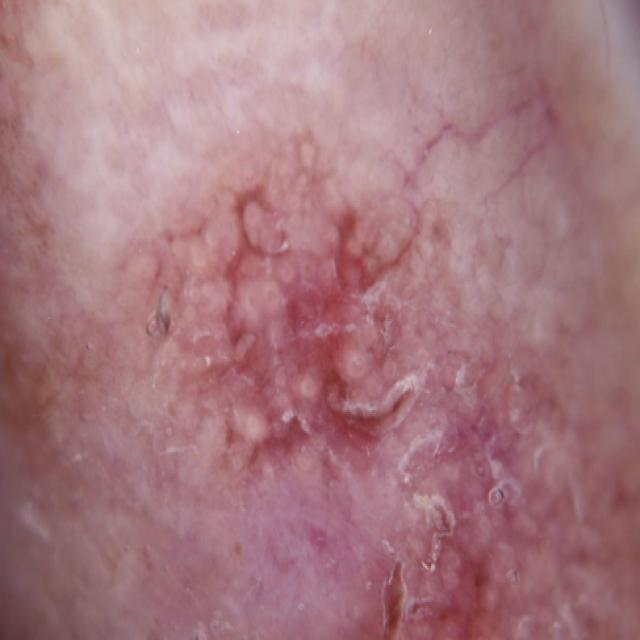Carcinoma: (108, 150, 631, 640)
